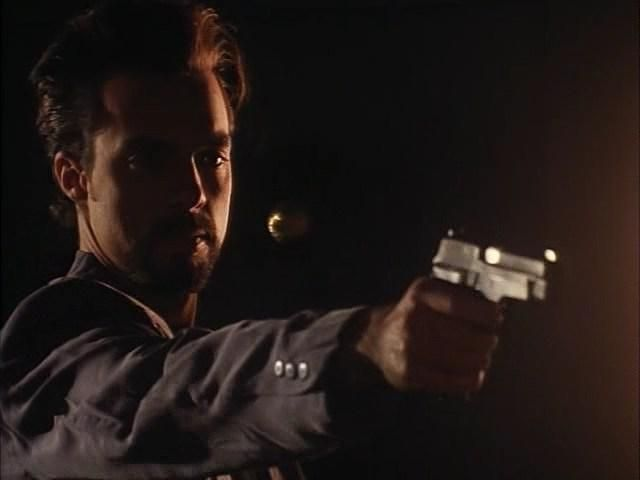gun: (399, 198, 555, 361)
